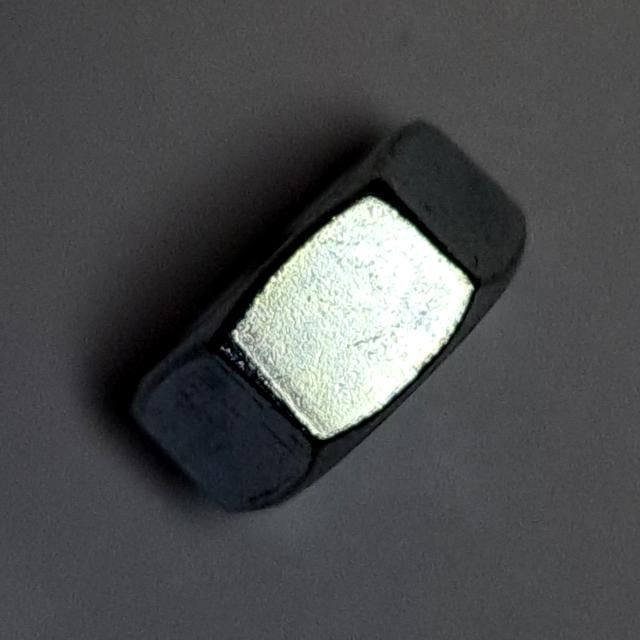Side_Excellent: (117, 102, 538, 531)
